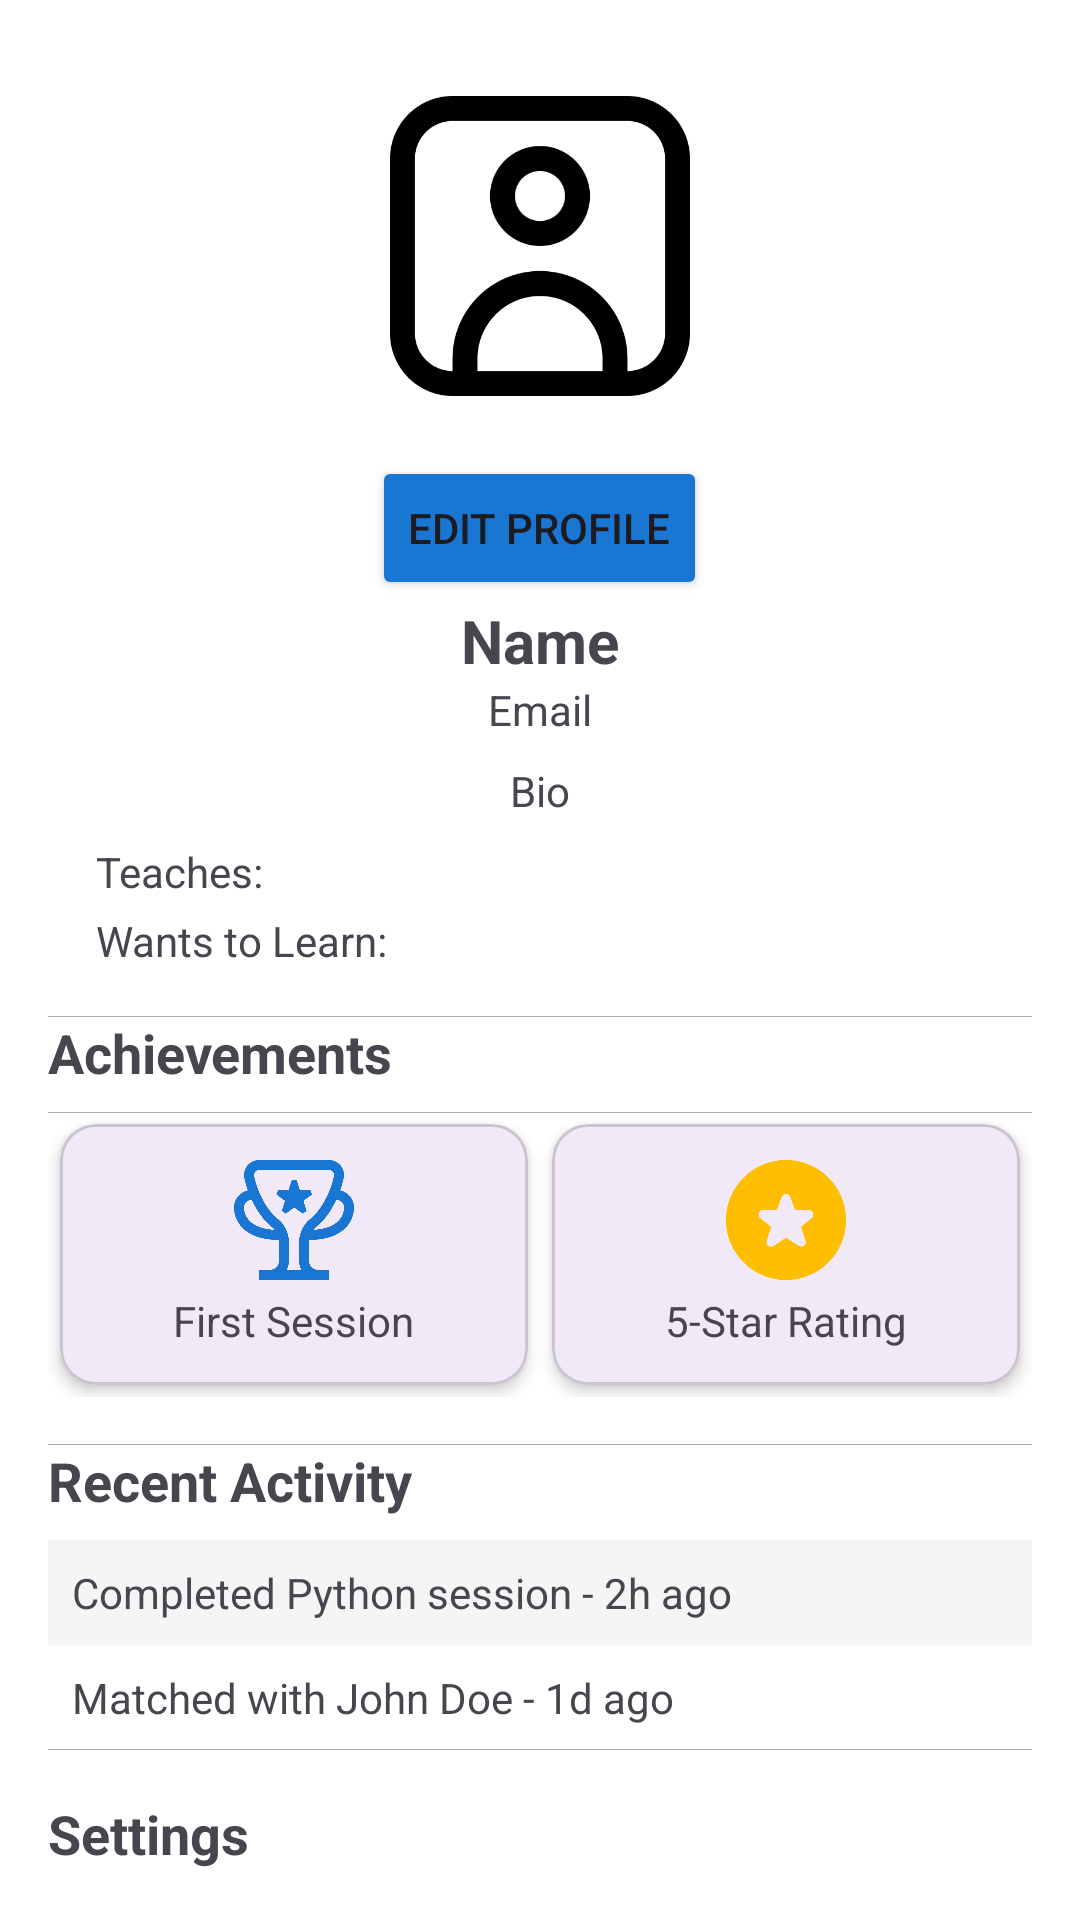

Icon bounding boxes for this 1080px x 1920px phone screenshot, format (x1, y1, x2, y2):
trophy: (234, 1160, 354, 1280)
